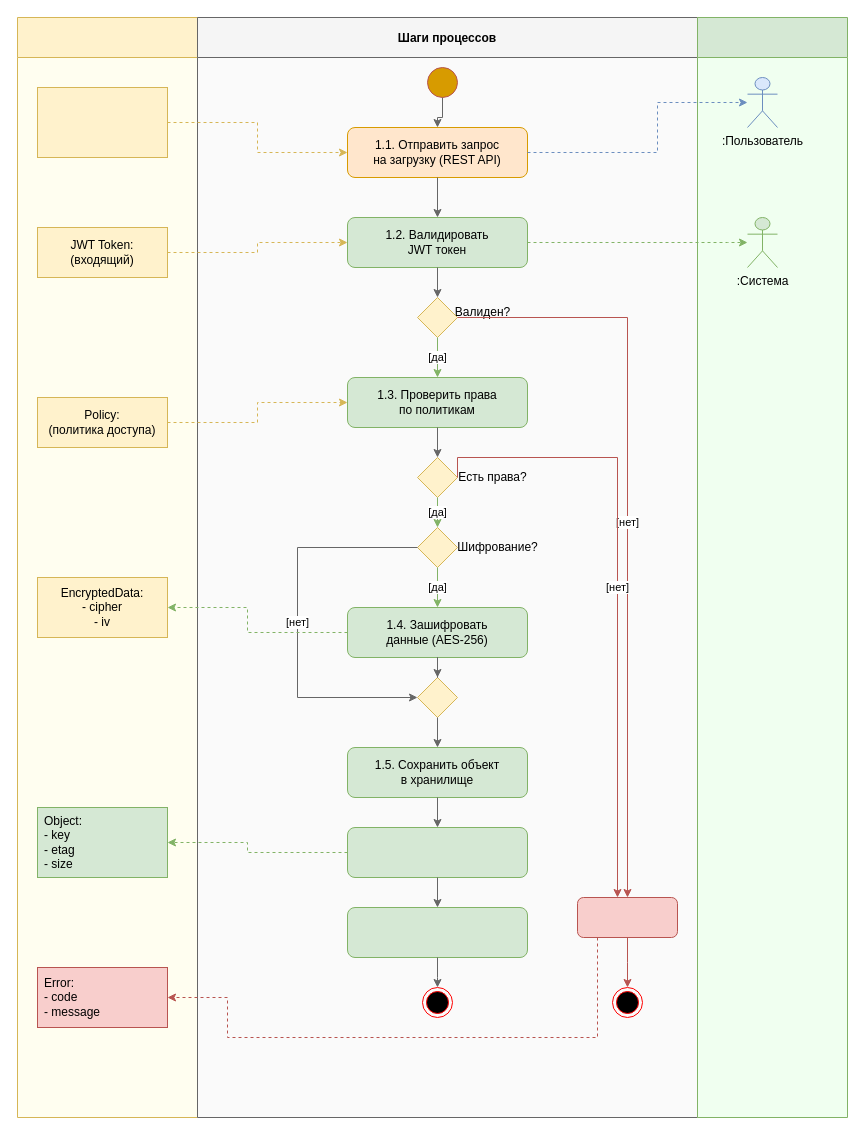
Some shapes in this 865 by 1135 pixel diagram are drawn without their labels. Each missing label, with the box of its shape:
1.6. Сохранить метаданные: (346, 826, 528, 878)
1.7. Вернуть успешный ответ: (346, 906, 528, 958)
UploadRequest: - bucket - key - data: (36, 86, 168, 158)
Вернуть ошибку: (576, 896, 678, 938)
Входные и выходные объекты: (16, 16, 198, 1118)
Участники: (696, 16, 848, 1118)
